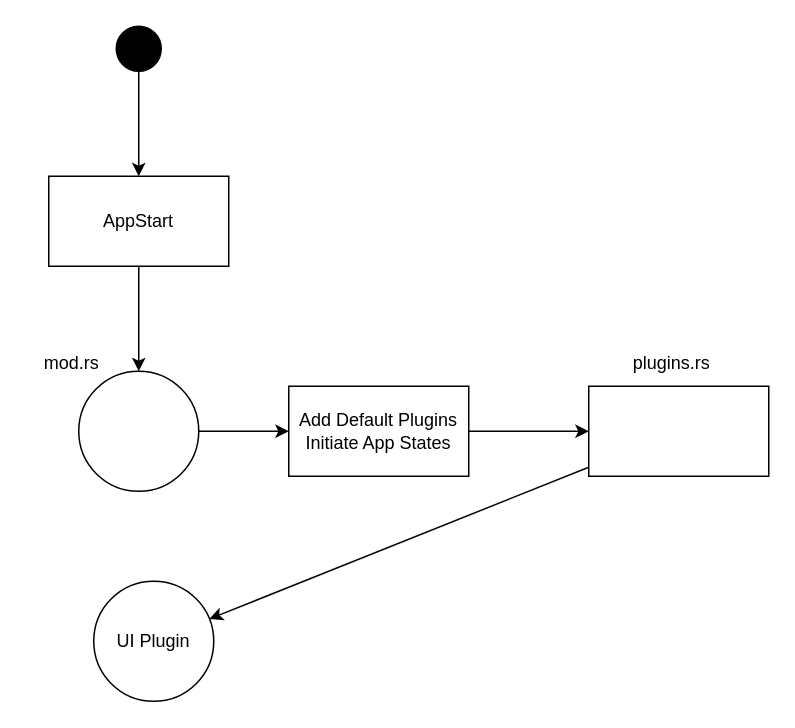
Image size: 795x728. Some labels were removed from this diagram. Each missing label, with the centre of its shape:
"Add Super Plugin - containing all the other plugins in sequence as needed" belongs at [678,430].
"Start" belongs at [138,430].
